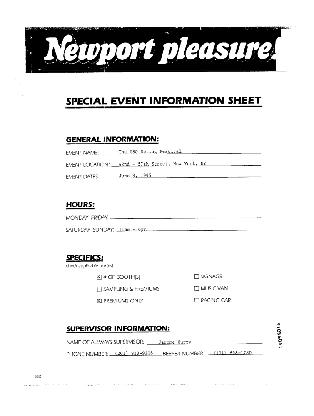checkbox: (193, 297, 200, 304), (193, 285, 200, 292), (193, 273, 200, 280), (96, 297, 102, 304), (96, 274, 102, 280), (96, 286, 102, 292)
textline: (109, 213, 262, 220), (111, 161, 261, 168), (100, 173, 262, 179), (100, 149, 261, 155), (116, 227, 262, 233), (147, 339, 263, 345), (208, 350, 263, 357), (108, 351, 162, 357)
